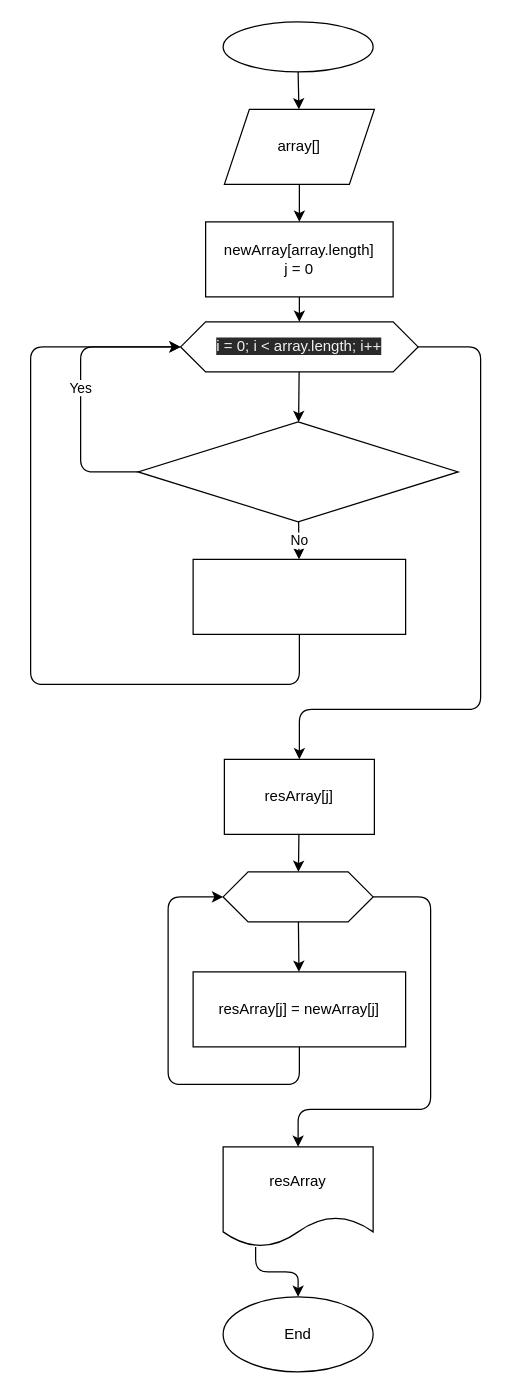
The diagram is 513 pixels wide and 1394 high, and some of its shapes have lost their labels. Here are the shapes that lost their labels. From the top down, the centre of each, then its label:
At [297,46]: "Start".
At [297,471]: "array[i].length > 3".
At [299,596]: "newArray[j] = array[i] j += 1".
At [297,896]: "i = 0; i < j; i++".
